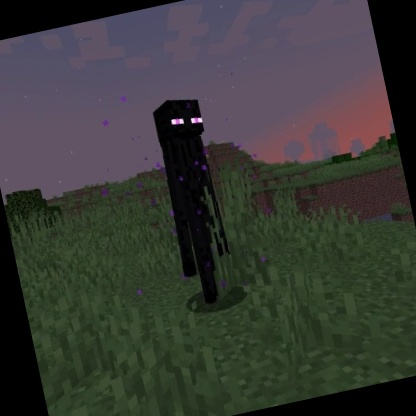enderman: (143, 90, 244, 311)
